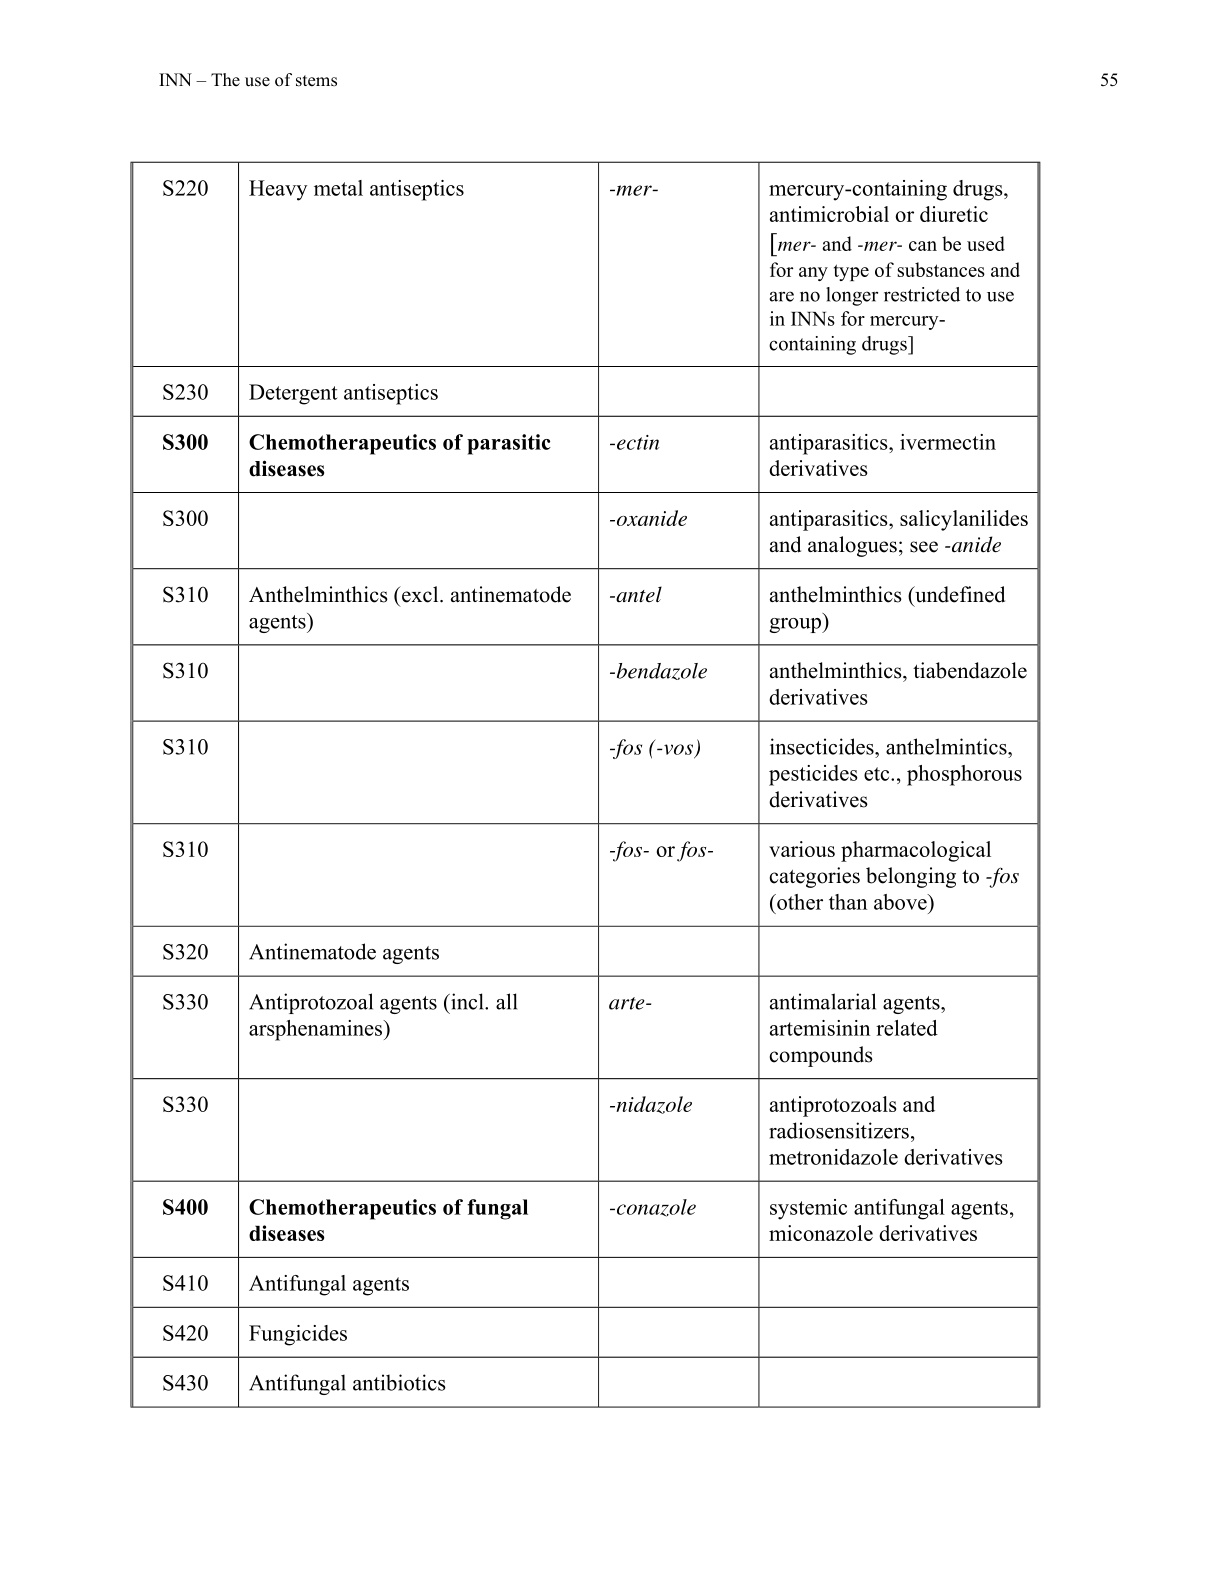full_lined: (129, 159, 1041, 1409)
